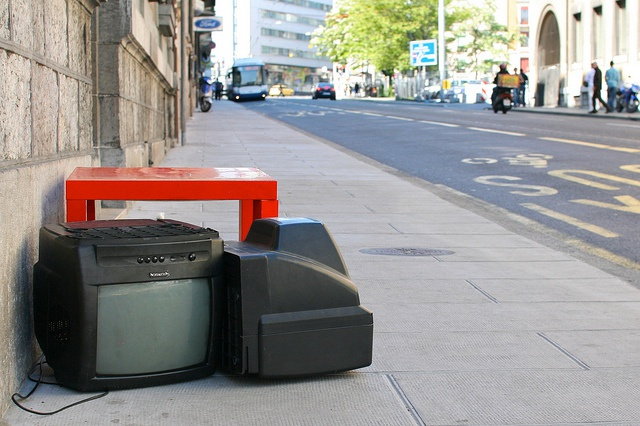non-vehicle: (615, 74, 640, 113), (491, 86, 513, 114), (197, 77, 213, 112)
